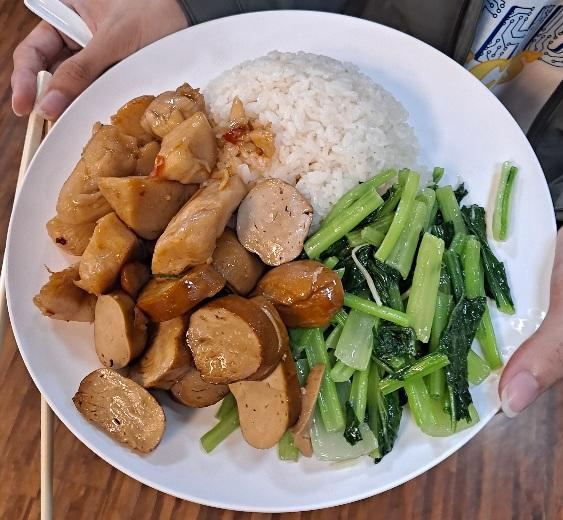big fried chicken leg: (9, 13, 563, 520)
braised fish fillet: (78, 171, 339, 451), (288, 161, 518, 451)
braised pork: (32, 83, 245, 309)
